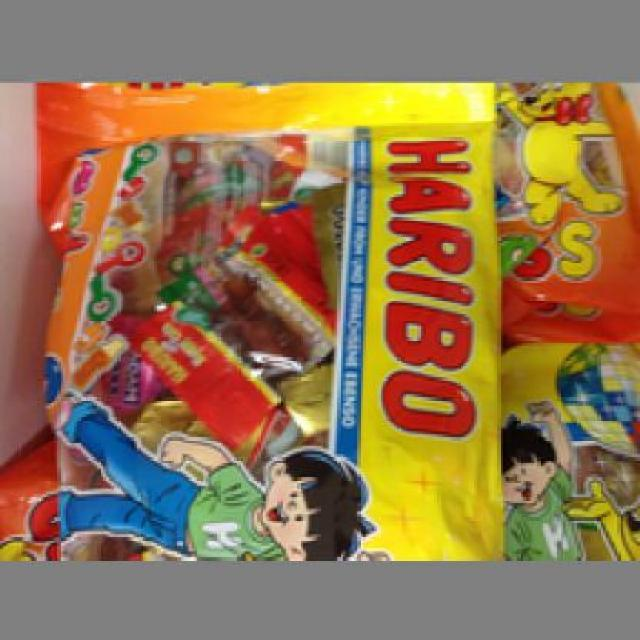Candy: (34, 86, 500, 554)
